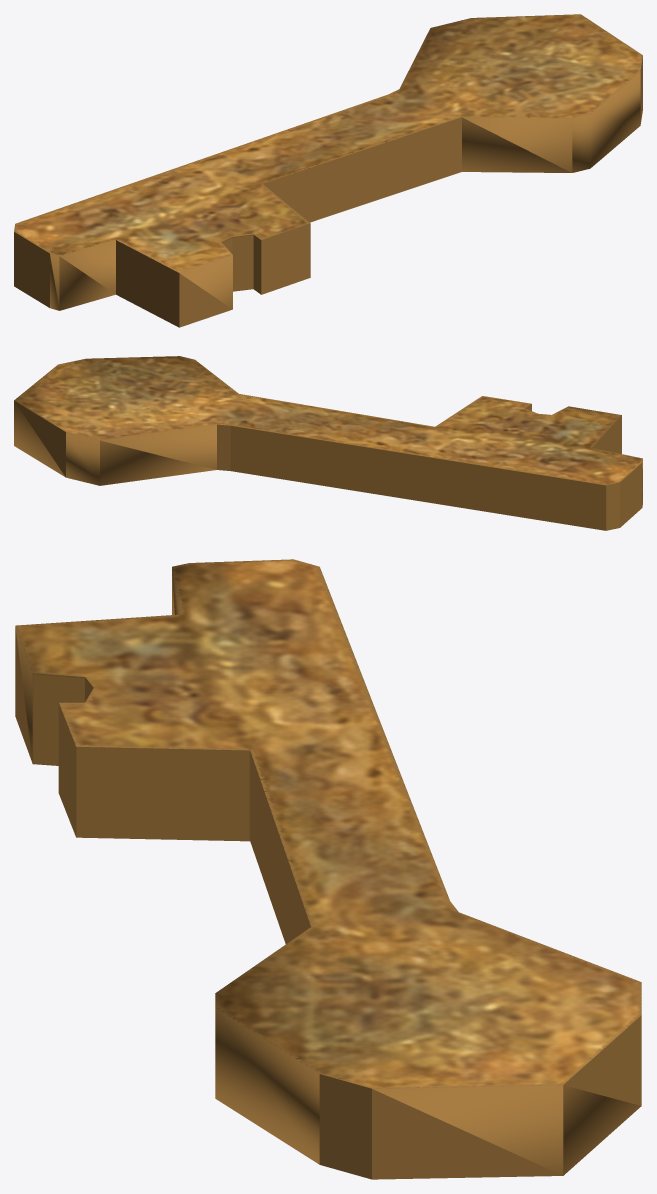
Rendered from item_mm9_10244.glb.
3 renders of one model, top to bottom at view 1: azimuth 30°, elevation 25°; view 2: azimuth 150°, elevation 25°; view 3: azimuth 270°, elevation 25°, orthographic. The views are drawn at different scales.
Visible parts, largest first — view 1: d10244; view 2: d10244; view 3: d10244.
Boxes of the visible parts, x1,y1,x2,y2 form: d10244: (14, 14, 642, 327); d10244: (14, 356, 642, 530); d10244: (15, 559, 641, 1179).
Bounding box in the file's own units: 64.8 × 5.18 × 32.4.
Materials: 1 (1 with a texture image).
